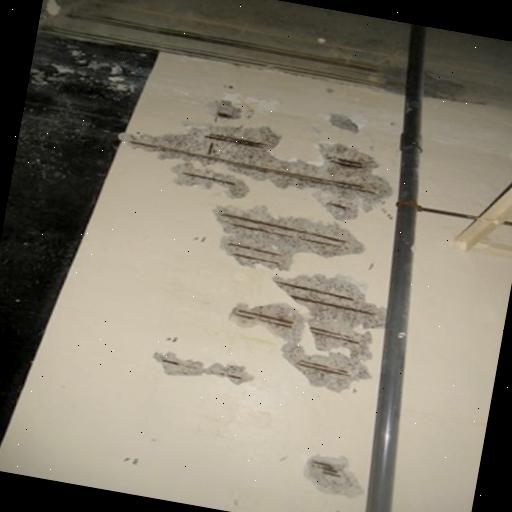spalling: (123, 121, 391, 223), (227, 274, 384, 394), (212, 203, 361, 271), (150, 346, 252, 385), (298, 449, 357, 496), (172, 165, 249, 197)
